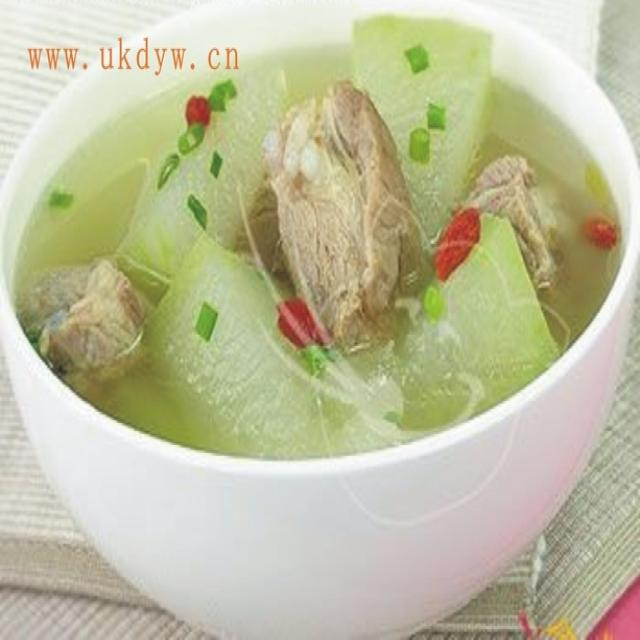汤锅炖物: (18, 13, 627, 511)
